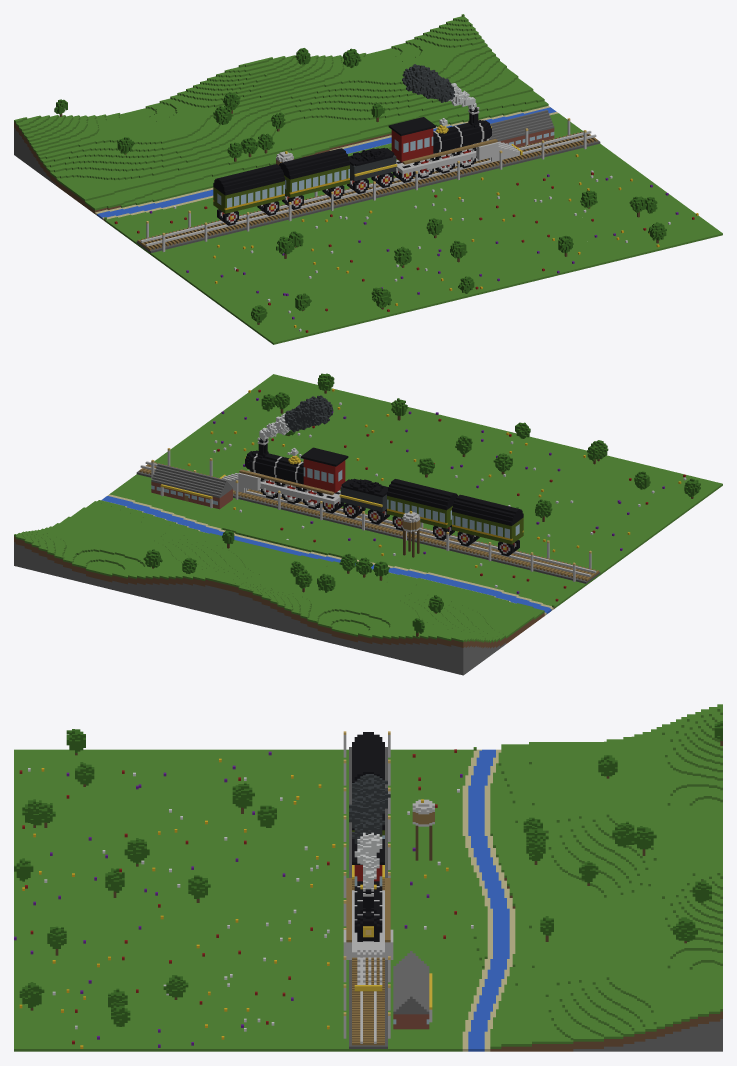
The picture shows the model from 3 angles, top to bottom: view 1: azimuth 30°, elevation 25°; view 2: azimuth 150°, elevation 25°; view 3: azimuth 270°, elevation 25°; orthographic projection. The views are drawn at different scales.
Bounding box in the file's own units: 256 × 63 × 256.
